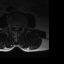CCS_stenosis: (16, 24, 17, 31)
LFS_normal: (19, 24, 21, 29)
LLS_normal: (17, 24, 19, 30)
RFS_normal: (11, 23, 13, 28)
RLS_normal: (13, 24, 16, 29)
